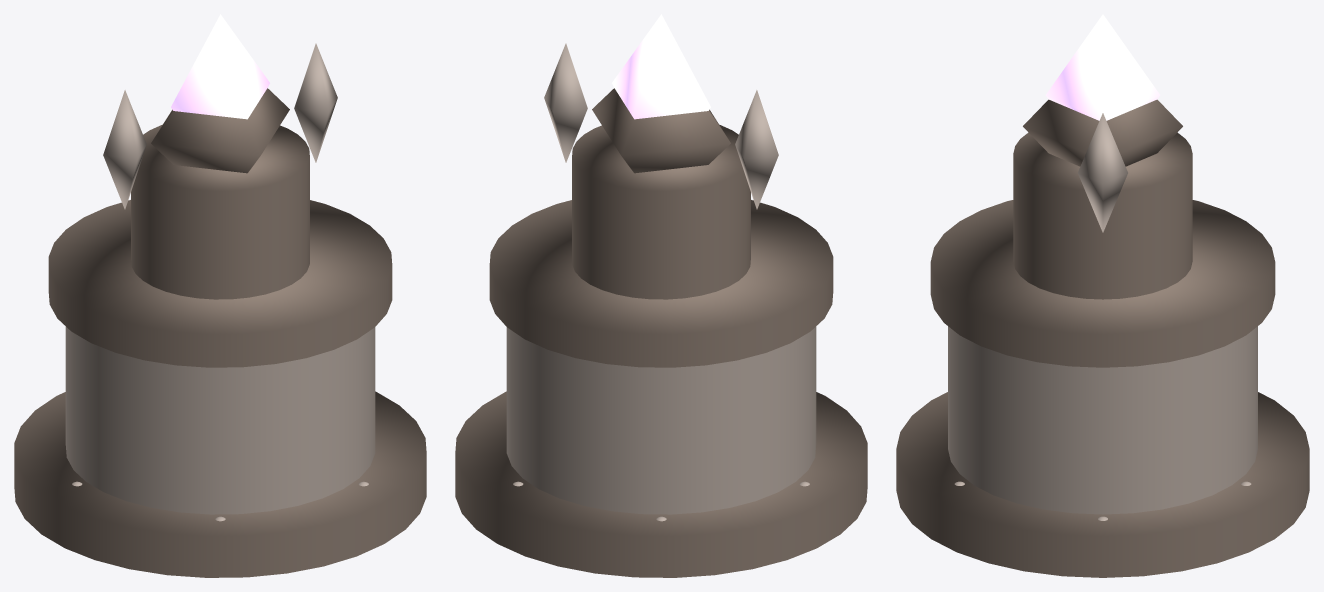
The model's file is lightning_l2.glb.
3 renders of one model, left to right at view 1: azimuth 30°, elevation 25°; view 2: azimuth 150°, elevation 25°; view 3: azimuth 270°, elevation 25°, orthographic.
Visible parts, largest first — view 1: base, footing, baseCollar, shaft, support, spinCrystal, shardL, shardR; view 2: base, footing, baseCollar, shaft, support, spinCrystal, shardL, shardR; view 3: base, footing, baseCollar, shaft, spinCrystal, support, shardR.
Part boxes in pixels (x1,y1,x2,y2): base: (65, 326, 375, 514); footing: (14, 391, 426, 577); baseCollar: (48, 200, 392, 367); shaft: (131, 124, 309, 299); support: (151, 88, 289, 173); spinCrystal: (171, 14, 269, 119); shardL: (103, 90, 146, 209); shardR: (294, 43, 337, 162); base: (506, 326, 816, 514); footing: (455, 391, 867, 577); baseCollar: (489, 200, 833, 367); shaft: (572, 124, 750, 299); support: (592, 88, 730, 173); spinCrystal: (612, 14, 710, 119); shardL: (735, 90, 778, 209); shardR: (544, 43, 587, 162); base: (948, 326, 1257, 514); footing: (896, 392, 1309, 577); baseCollar: (930, 200, 1275, 367); shaft: (1013, 132, 1192, 299); spinCrystal: (1045, 14, 1160, 120); support: (1023, 99, 1182, 166); shardR: (1078, 113, 1127, 232).
Size of the model in its own units: 1.8 by 2.29 by 1.8.
